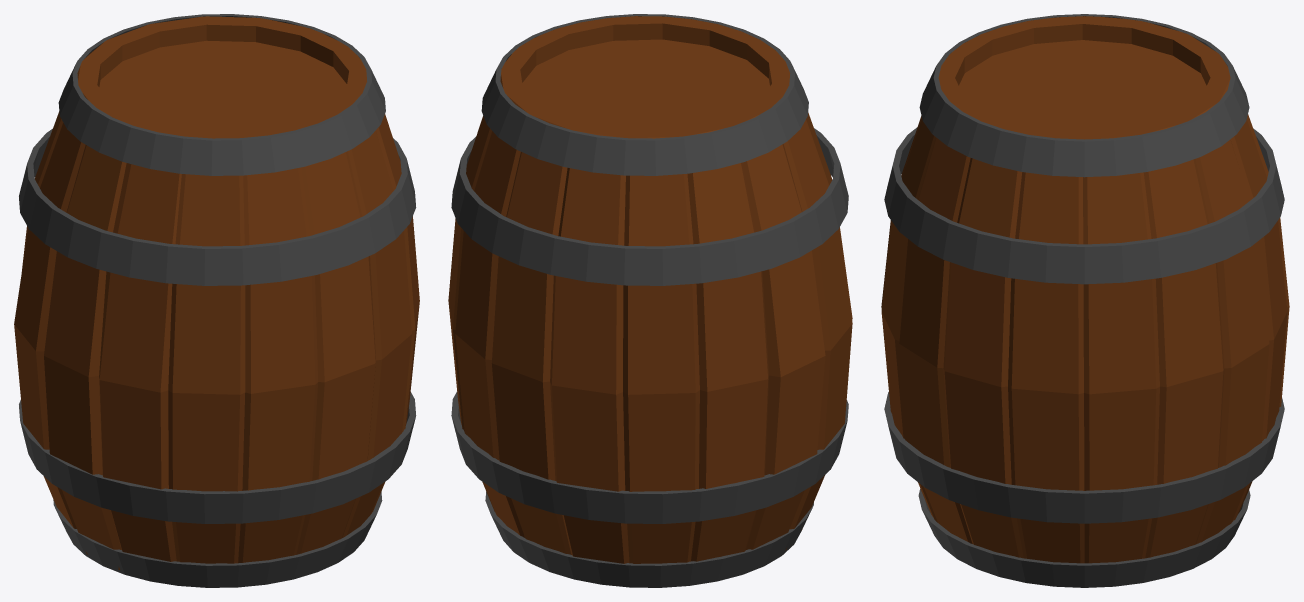
File: Barrel_01.fbx
3 views of the same model, side by side, from view 1: azimuth 30°, elevation 25°; view 2: azimuth 150°, elevation 25°; view 3: azimuth 270°, elevation 25° (orthographic).
Parts seen in each view (by area): view 1: Cylinder; view 2: Cylinder; view 3: Cylinder.
Part boxes in pixels (bbox=[...]): Cylinder: bbox=[14, 14, 419, 587]; Cylinder: bbox=[448, 14, 852, 587]; Cylinder: bbox=[881, 14, 1289, 587].
Size of the model in its own units: 231 by 278 by 230.
